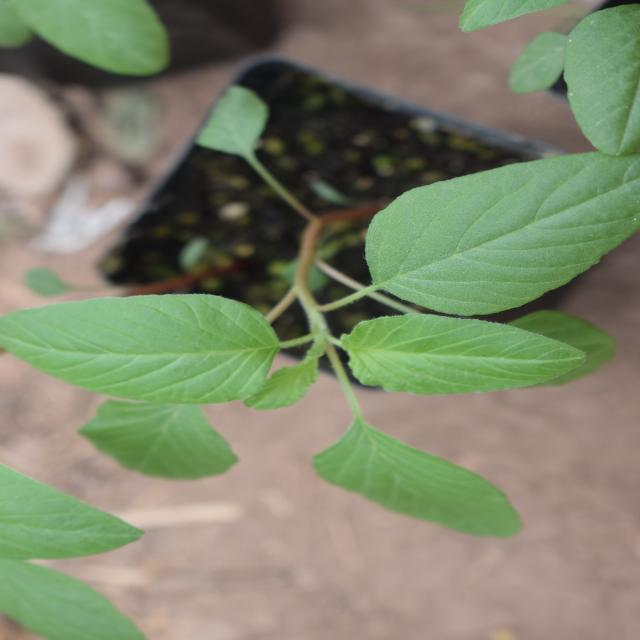pigweed: (128, 28, 501, 622)
